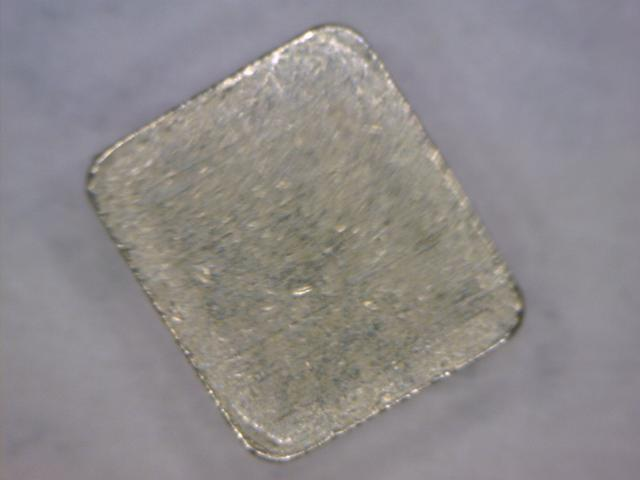ok: (75, 21, 539, 469)
